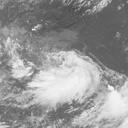cyclone: (27, 51, 102, 111)
